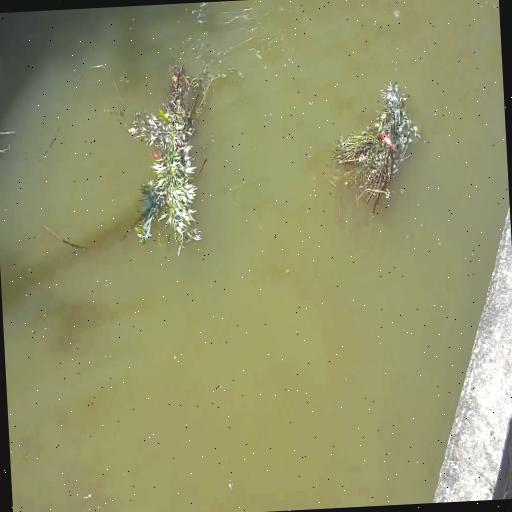twig: (124, 52, 224, 256), (324, 80, 424, 222)
